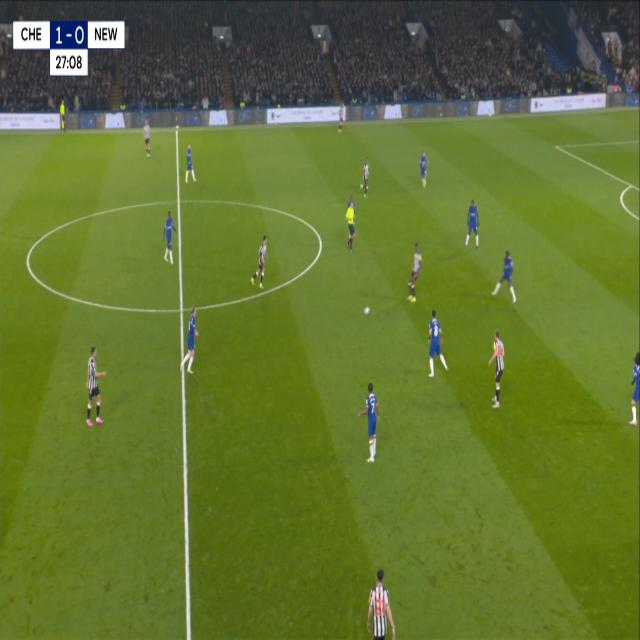Ball: (361, 300, 372, 320)
Chelsea: (355, 376, 383, 466), (424, 304, 450, 380), (178, 300, 202, 378), (490, 244, 519, 306), (462, 193, 483, 253), (160, 206, 179, 267), (627, 346, 640, 430), (184, 139, 198, 186), (418, 147, 429, 193)
New castle: (364, 565, 396, 638), (83, 341, 108, 431), (487, 325, 507, 407), (406, 240, 424, 305), (250, 231, 268, 289), (141, 115, 153, 159), (360, 154, 370, 201), (337, 96, 347, 131)
Refree: (343, 192, 358, 254)
